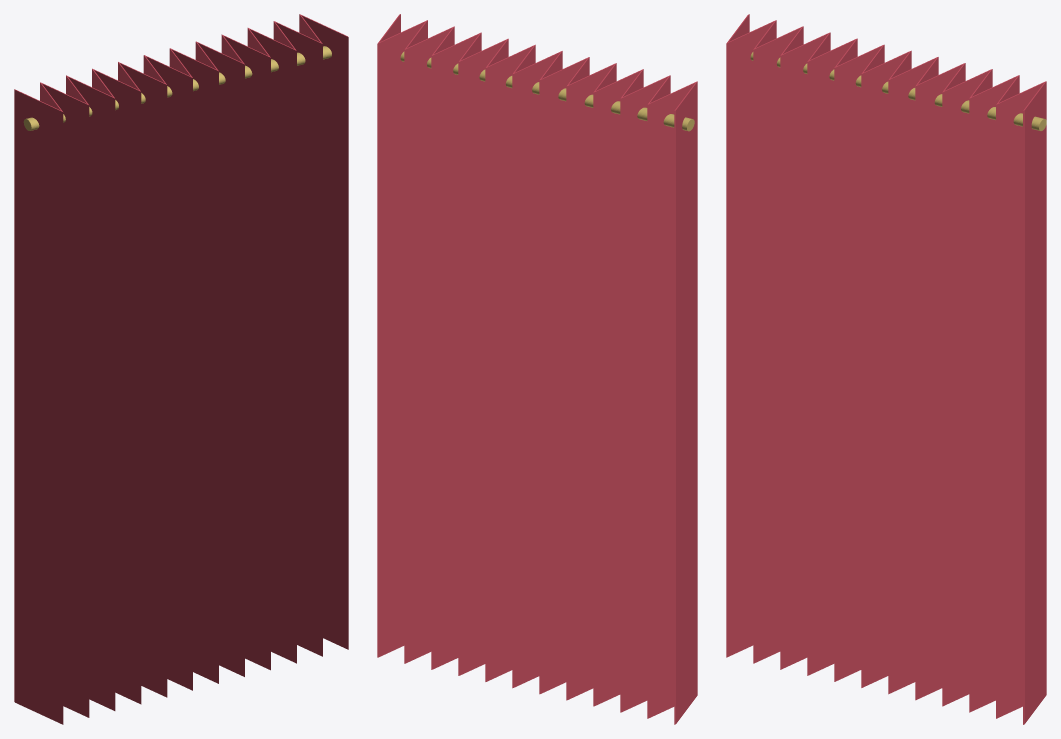
The model's file is curtain.glb.
3 renders of one model, left to right at view 1: azimuth 30°, elevation 25°; view 2: azimuth 150°, elevation 25°; view 3: azimuth 330°, elevation 25°, orthographic.
Visible parts, largest first — view 1: Mesh_Mesh_head_geo.001_lambert2SG.001; view 2: Mesh_Mesh_head_geo.001_lambert2SG.001; view 3: Mesh_Mesh_head_geo.001_lambert2SG.001.
Part boxes in pixels (x1,y1,x2,y2): Mesh_Mesh_head_geo.001_lambert2SG.001: [14, 14, 348, 724]; Mesh_Mesh_head_geo.001_lambert2SG.001: [377, 14, 697, 724]; Mesh_Mesh_head_geo.001_lambert2SG.001: [726, 14, 1046, 724].
Bounding box in the file's own units: 0.019 × 0.036 × 0.00444.
